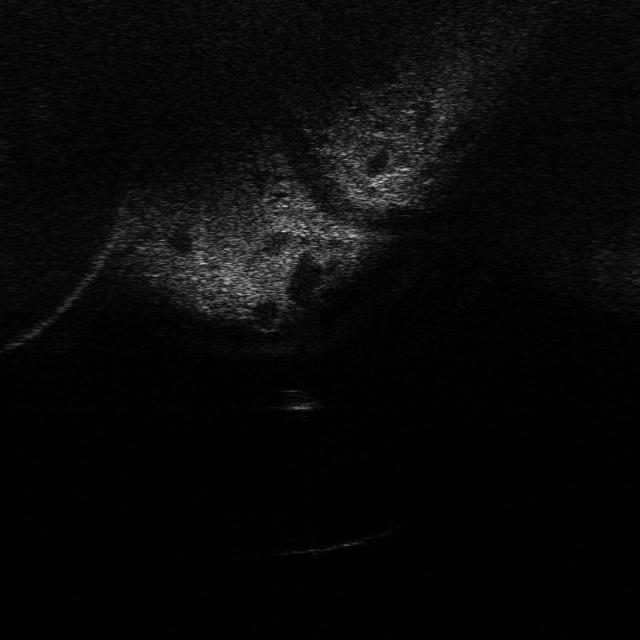cube: (277, 386, 324, 414)
